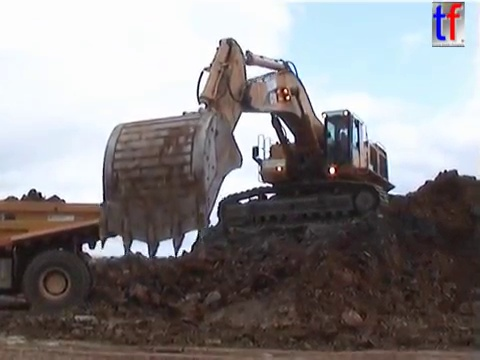excavator: (96, 35, 399, 261)
truck: (1, 195, 158, 318)
